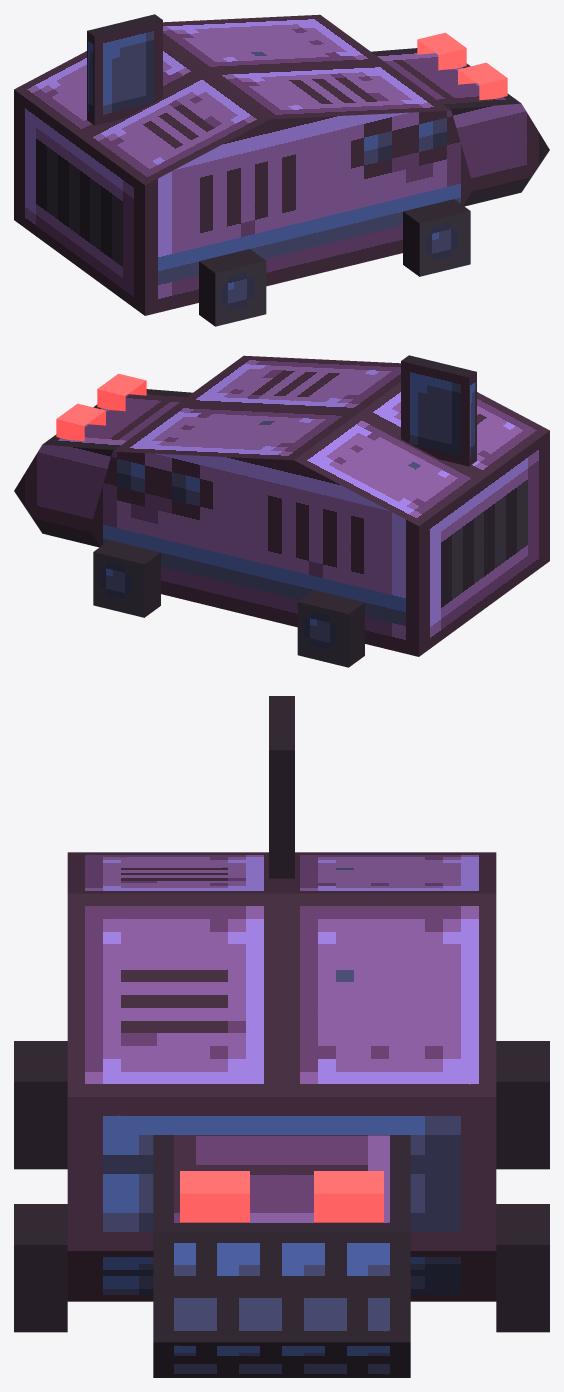
File: snapper.glb
The picture shows the model from 3 angles, top to bottom: view 1: azimuth 30°, elevation 25°; view 2: azimuth 150°, elevation 25°; view 3: azimuth 270°, elevation 25°; orthographic projection. The views are drawn at different scales.
Parts seen in each view (by area): view 1: body, eyes; view 2: body, eyes; view 3: body, eyes.
Boxes of the visible parts, x1=… form: body: x1=14, y1=14, x2=549, y2=326; eyes: x1=417, y1=32, x2=507, y2=100; body: x1=14, y1=355, x2=549, y2=667; eyes: x1=56, y1=373, x2=146, y2=441; body: x1=14, y1=696, x2=549, y2=1377; eyes: x1=180, y1=1171, x2=383, y2=1222.
Size of the model in its own units: 0.76 by 0.41 by 0.5.
2 materials, 1 textured.
